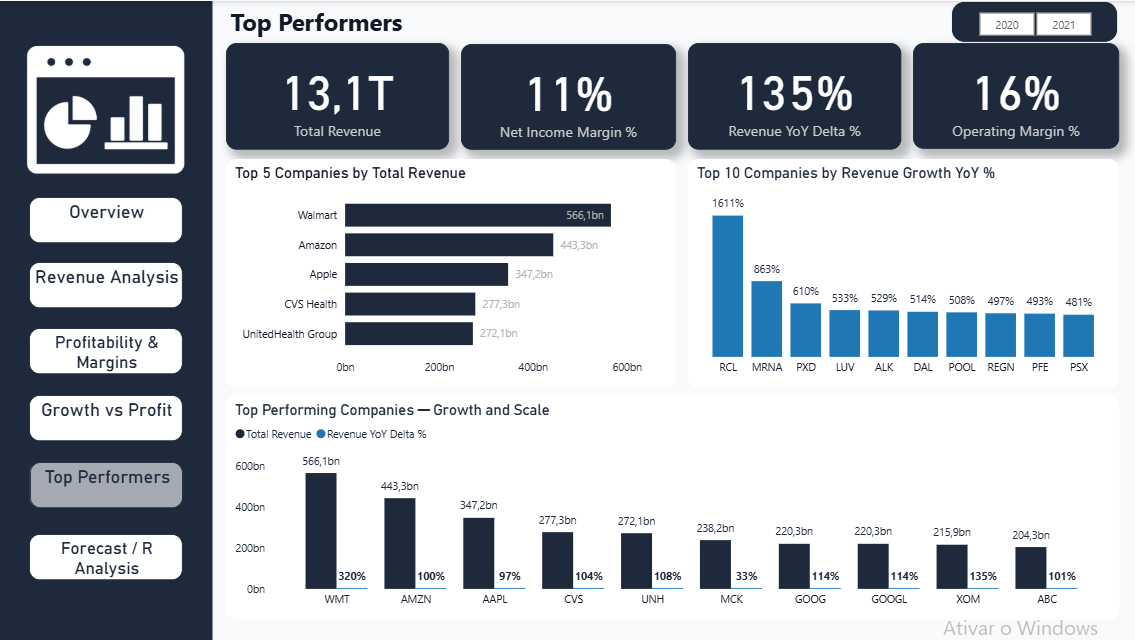

The page's visual inventory and layout, read from the dashboard file:
{"tool":"powerbi","page":{"name":"Top Performers","canvas":[1280,720],"ordinal":4},"visuals":[{"type":"card","title":"Top 10 YoY Revenue Growth","fields":{"Values":["#Measures.Total Revenue"]},"box":[255.4,47.2,250.9,120.4],"z":0},{"type":"card","title":"Top 10 YoY Revenue Growth","fields":{"Values":["#Measures.Revenue YoY Delta %"]},"box":[774.9,47.2,240,120.4],"z":1000},{"type":"card","title":"Top 10 YoY Revenue Growth","fields":{"Values":["#Measures.Operating Margin %"]},"box":[1028.2,47.2,231.8,119.2],"z":2000},{"type":"card","title":"Top 10 YoY Revenue Growth","fields":{"Values":["#Measures.Net Income Margin %"]},"box":[519.6,48.4,241.9,119.2],"z":3000},{"type":"actionButton","title":"Top Performers","box":[34.5,518.7,172.4,52.4],"z":4000,"group":"g1"},{"type":"actionButton","title":"Forecast / R Analysis","box":[33.8,599.6,173.2,51.8],"z":4000},{"type":"actionButton","title":"Top Performers","box":[33.8,518.6,173.2,51.8],"z":5000},{"type":"actionButton","title":"Growth vs Profit","box":[33.8,443.2,173.2,51.8],"z":6000},{"type":"actionButton","title":"Profitability & Margins","box":[33.8,367.9,173.2,51.8],"z":7000},{"type":"actionButton","title":"Revenue Analysis","box":[33.8,293.6,173.2,51.8],"z":8000},{"type":"actionButton","title":"Overview","box":[33.8,220.5,173.2,51.8],"z":9000},{"type":"group","id":"g1","title":"Active Buttons","box":[33.5,220.5,173.4,430.6],"z":10000},{"type":"clusteredBarChart","title":"Top 5 Companies by Total Revenue","fields":{"Category":["FinancialData.firm"],"Y":["#Measures.Total Revenue"]},"box":[255.4,177.8,506.2,257.6],"z":11000},{"type":"clusteredColumnChart","title":"Top 10 Companies by Revenue Growth YoY %","fields":{"Y":["#Measures.Revenue YoY Delta %"],"Category":["FinancialData.Ticker"]},"box":[775.1,177.8,484.9,257.6],"z":12000},{"type":"clusteredColumnChart","title":"Top Performing Companies ─ Growth and Scale","fields":{"Y":["#Measures.Total Revenue","#Measures.Revenue YoY Delta %"],"Category":["FinancialData.Ticker"]},"box":[255.4,443.2,1004.6,253.1],"z":13000},{"type":"textbox","box":[255.1,0,300.1,65.8],"z":14000},{"type":"slicer","fields":{"Values":["DimCalendar.Year"]},"box":[1071.1,0,188.1,47.3],"z":15000}]}

Visuals, with their boxes on the page's 1280x720 design canvas (x1, y1, x2, y2). These are canvas units, not pixel positions in the 1135x640 screenshot, which may show the page scaled, cropped or inside an application window:
"Top 10 YoY Revenue Growth" card: 255/47/506/168
"Top 10 YoY Revenue Growth" card: 775/47/1015/168
"Top 10 YoY Revenue Growth" card: 1028/47/1260/166
"Top 10 YoY Revenue Growth" card: 520/48/762/168
"Top Performers" actionButton: 34/519/207/571
"Forecast / R Analysis" actionButton: 34/600/207/651
"Top Performers" actionButton: 34/519/207/570
"Growth vs Profit" actionButton: 34/443/207/495
"Profitability & Margins" actionButton: 34/368/207/420
"Revenue Analysis" actionButton: 34/294/207/345
"Overview" actionButton: 34/220/207/272
"Active Buttons" group: 34/220/207/651
"Top 5 Companies by Total Revenue" clusteredBarChart: 255/178/762/435
"Top 10 Companies by Revenue Growth YoY %" clusteredColumnChart: 775/178/1260/435
"Top Performing Companies ─ Growth and Scale" clusteredColumnChart: 255/443/1260/696
textbox: 255/0/555/66
slicer - DimCalendar.Year: 1071/0/1259/47
